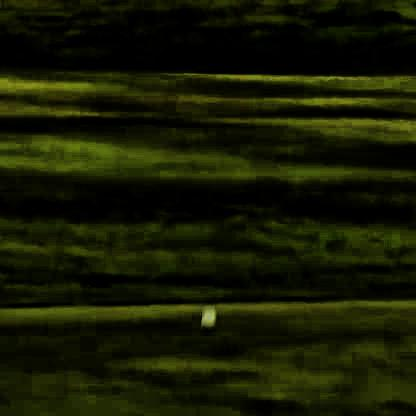golfball: (199, 299, 215, 323)
